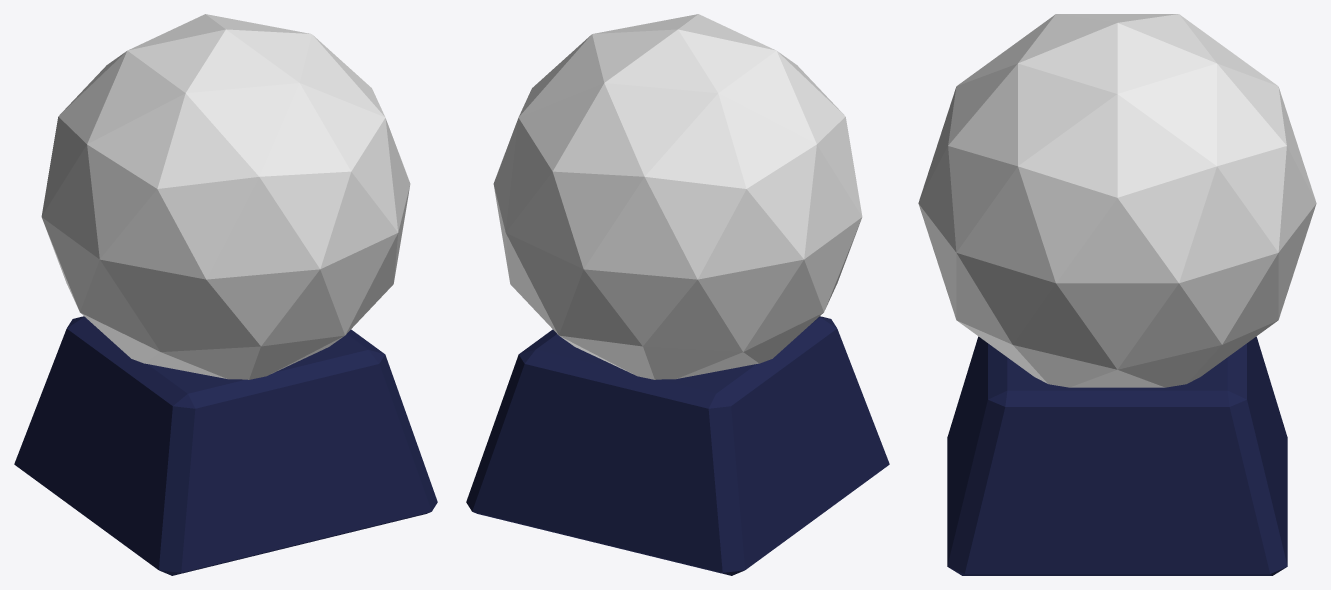
File: crystalBallGreen.fbx
The picture shows the model from 3 angles, left to right: view 1: azimuth 30°, elevation 25°; view 2: azimuth 150°, elevation 25°; view 3: azimuth 270°, elevation 25°; orthographic projection. The views are drawn at different scales.
Parts seen in each view (by area): view 1: Icosphere, Cube.010; view 2: Icosphere, Cube.010; view 3: Icosphere, Cube.010.
Part boxes in pixels (left/top/right/bottom): Icosphere: left=41, top=14, right=410, bottom=379; Cube.010: left=14, top=316, right=437, bottom=575; Icosphere: left=493, top=14, right=862, bottom=379; Cube.010: left=466, top=316, right=889, bottom=575; Icosphere: left=918, top=14, right=1316, bottom=387; Cube.010: left=947, top=336, right=1287, bottom=575.
Bounding box in the file's own units: 139 × 198 × 147.
